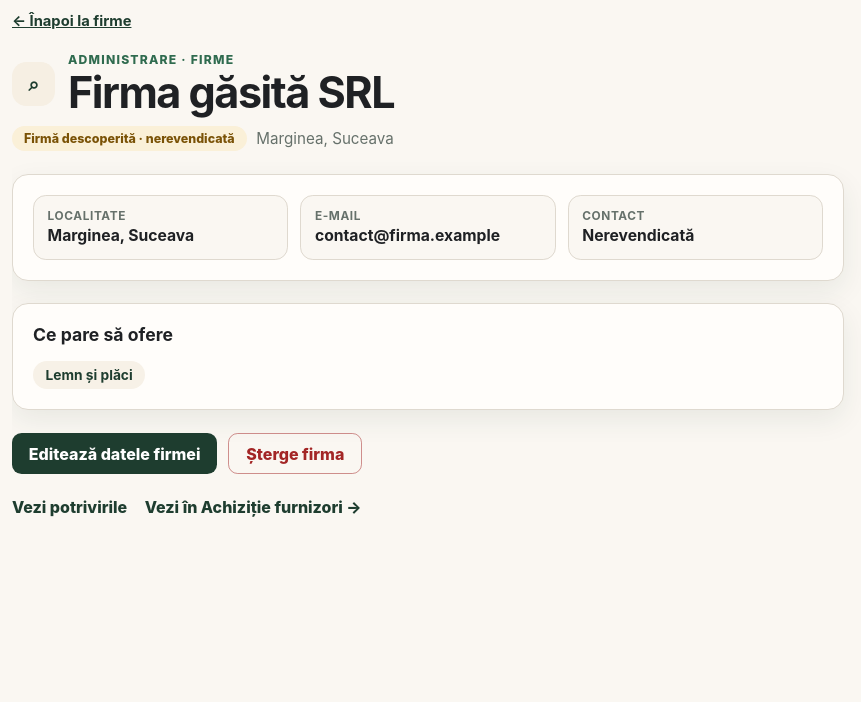
Scenario: CompanyDetailEditorComponent › allows an administrator to open a prefilled editor for an unclaimed discovered company
The image size is (861, 702).
Click the button "Editează datele firmei": (115, 454) [12, 433, 217, 474]
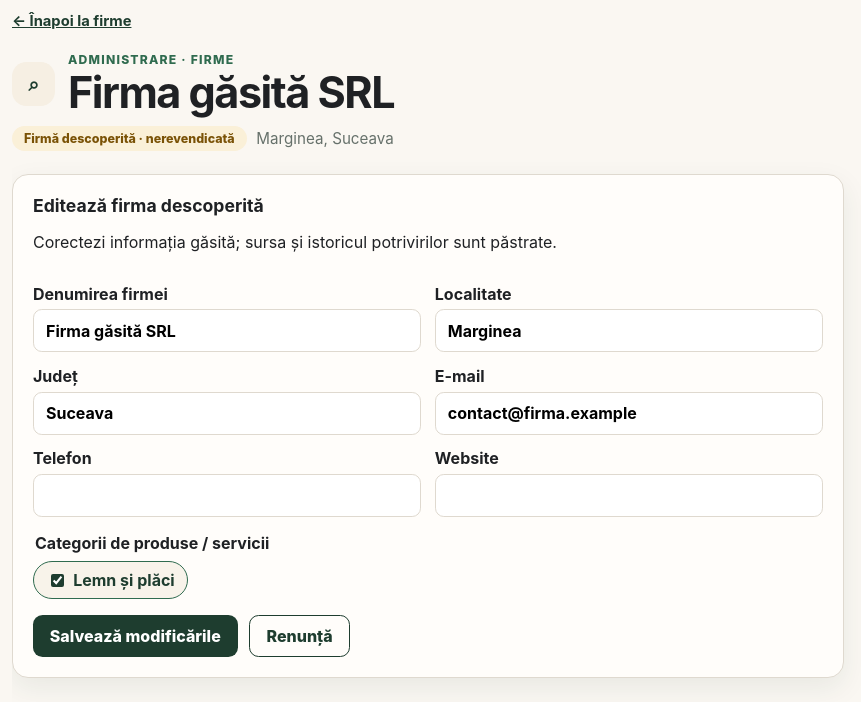
Check: the heading "Firma găsită SRL" is shown, box [68, 70, 394, 116]
Check: the text "Salvează modificările" is shown, box [33, 615, 238, 657]
